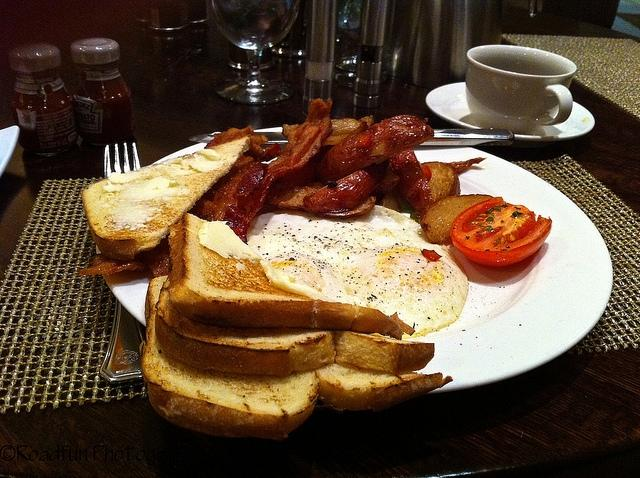tomato: (450, 196, 552, 266)
